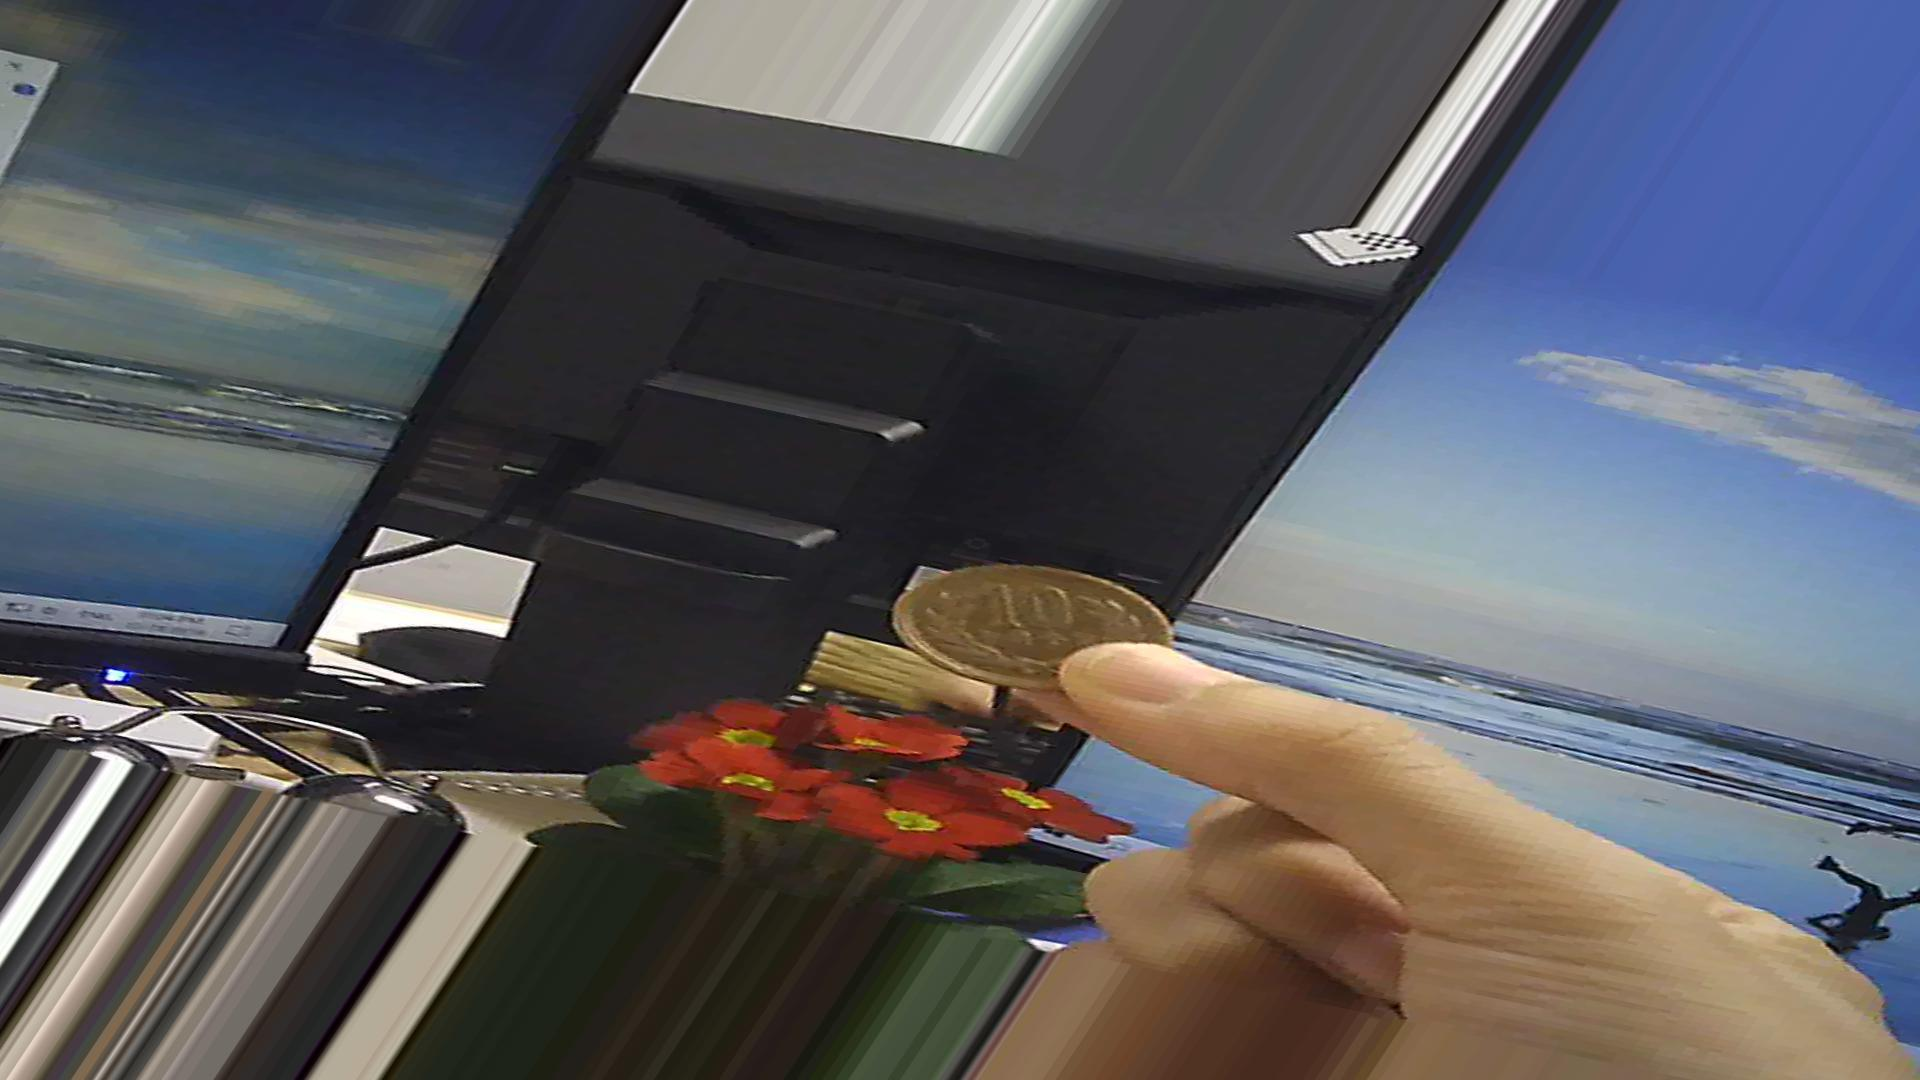10 Yen: (891, 558, 1183, 716)
